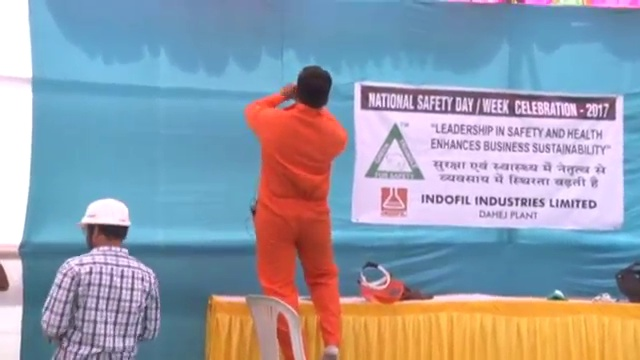helmet: (79, 196, 134, 229)
helmet_off: (294, 65, 332, 110)
helmet_on: (77, 195, 134, 255)
person: (246, 65, 350, 359), (41, 195, 162, 360)
